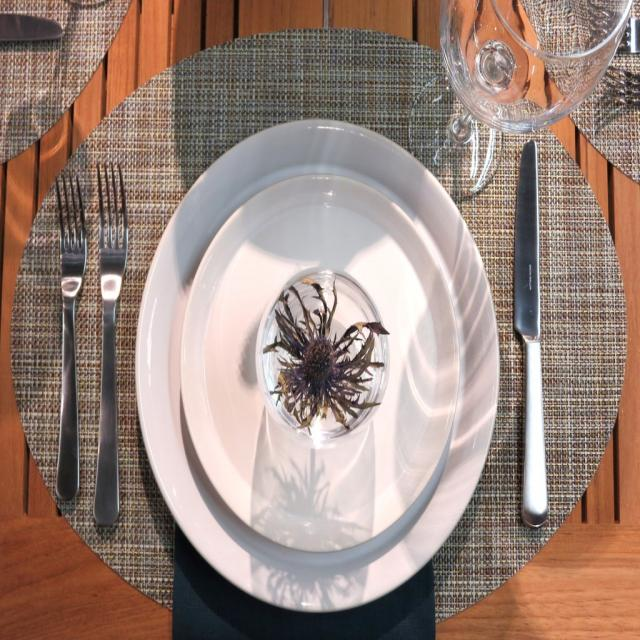non-organic waste: (124, 111, 509, 608)
